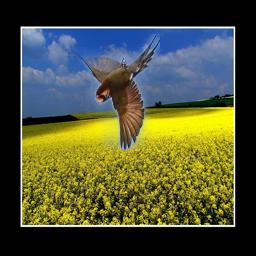Swallow: (64, 34, 160, 150)
